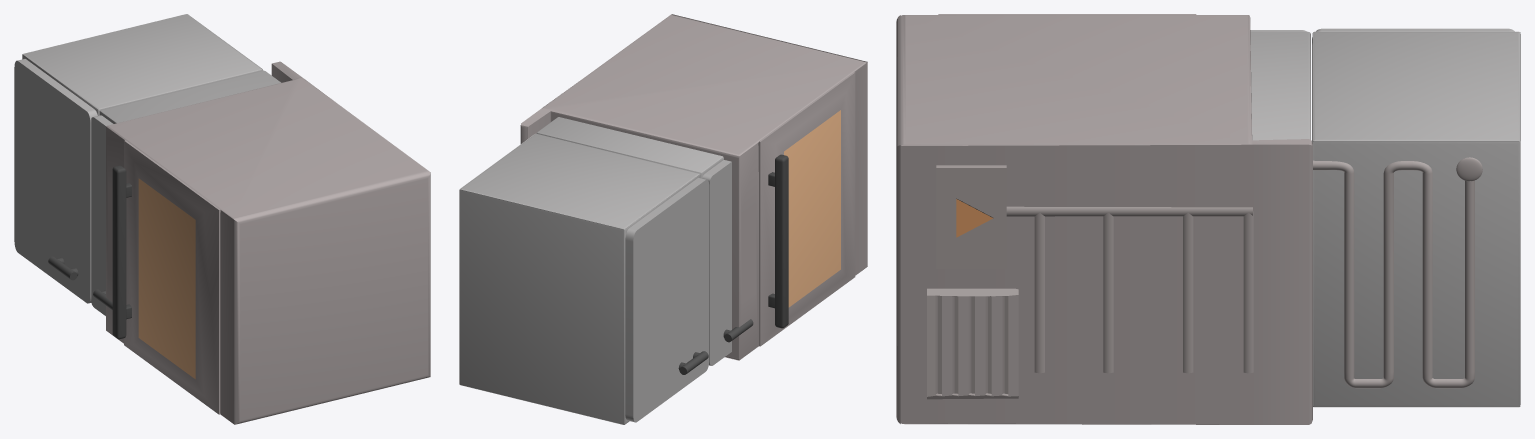
Rendered from Mutfak birkaç eşya.fbx.
3 renders of one model, left to right at view 1: azimuth 30°, elevation 25°; view 2: azimuth 150°, elevation 25°; view 3: azimuth 270°, elevation 25°, orthographic. The views are drawn at different scales.
Visible parts, largest first — view 1: Cube.011, Cube.012, Cylinder.035, Cylinder.006, Cylinder.007; view 2: Cylinder.035, Cube.011, Cube.012, Cylinder.006, Cylinder.007; view 3: Cube.011, Cylinder.035, Cylinder.006.
Boxes of the visible parts, x1=… form: Cube.011: x1=106, y1=61, x2=430, y2=424; Cube.012: x1=112, y1=140, x2=220, y2=414; Cylinder.035: x1=22, y1=14, x2=281, y2=123; Cylinder.006: x1=14, y1=59, x2=97, y2=303; Cylinder.007: x1=91, y1=115, x2=113, y2=315; Cylinder.035: x1=459, y1=117, x2=723, y2=424; Cube.011: x1=520, y1=14, x2=867, y2=360; Cube.012: x1=758, y1=72, x2=855, y2=346; Cylinder.006: x1=625, y1=177, x2=709, y2=422; Cylinder.007: x1=702, y1=160, x2=753, y2=365; Cube.011: x1=896, y1=15, x2=1312, y2=424; Cylinder.035: x1=1250, y1=31, x2=1520, y2=407; Cylinder.006: x1=1312, y1=28, x2=1514, y2=142.
Size of the model in its own units: 4.16 by 3.72 by 7.51.
